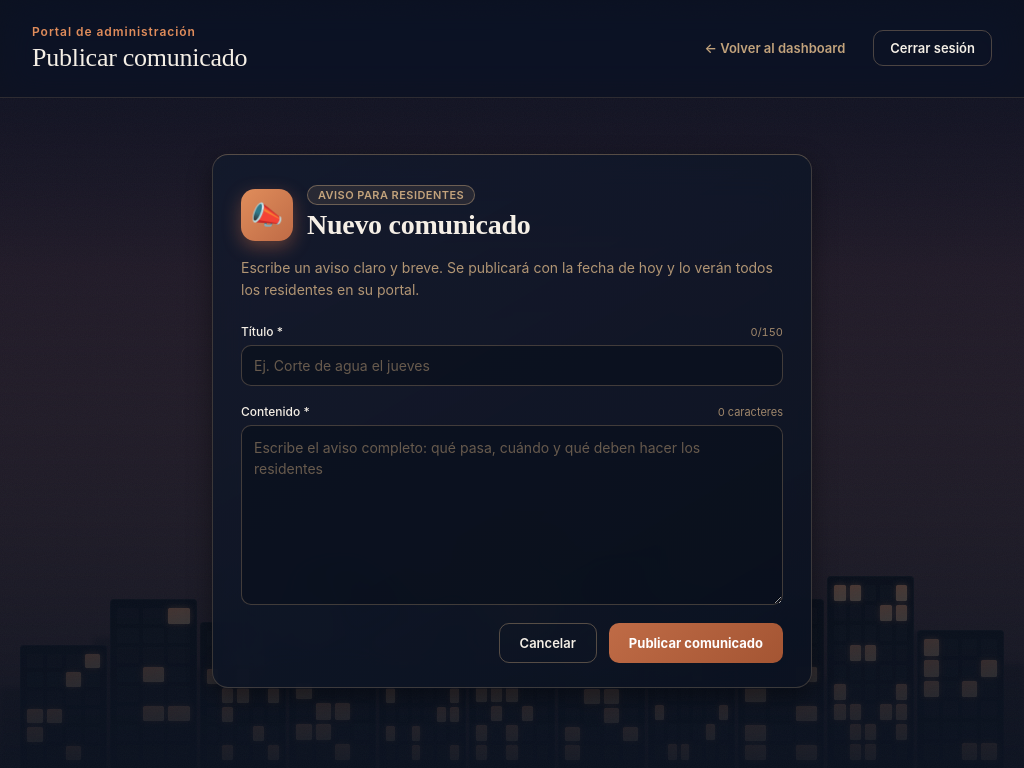
Test: CU-10 PublicarComunicadoPage › error del servidor: muestra su mensaje y conserva lo capturado
Type "Corte de agua" into the field labelled "Título *" at coordinates (512, 366), box [241,345,783,386]
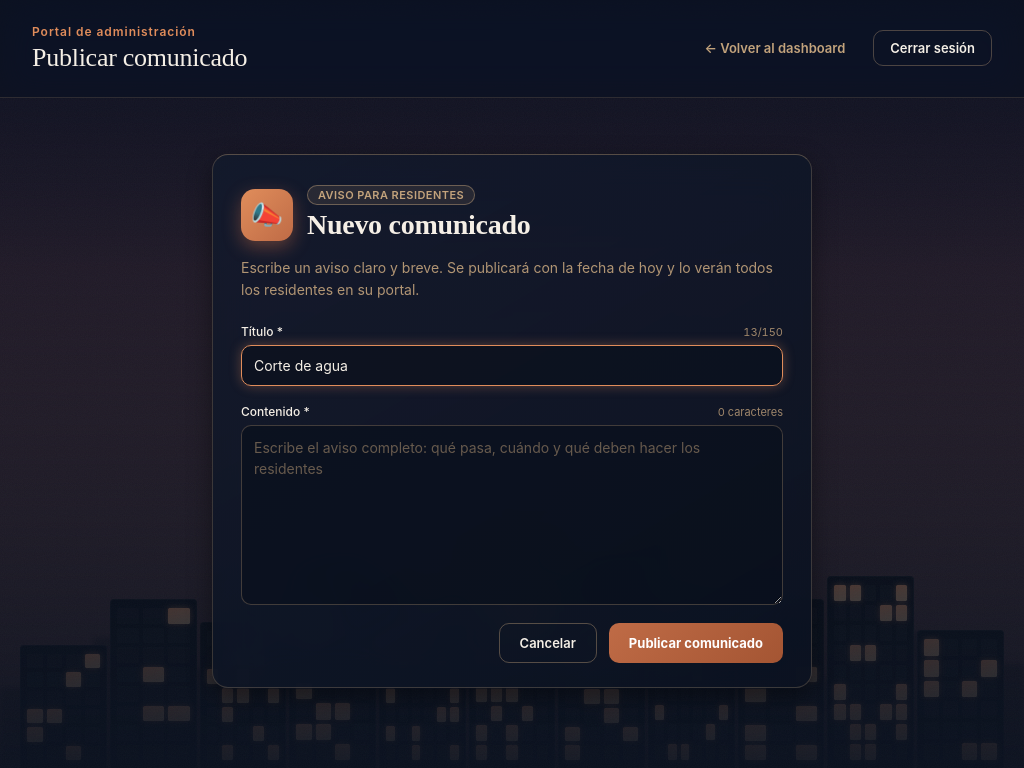
Type "El jueves de 9 a 13 h" into the text box labelled "Contenido *" at coordinates (512, 515), box [241,425,783,605]
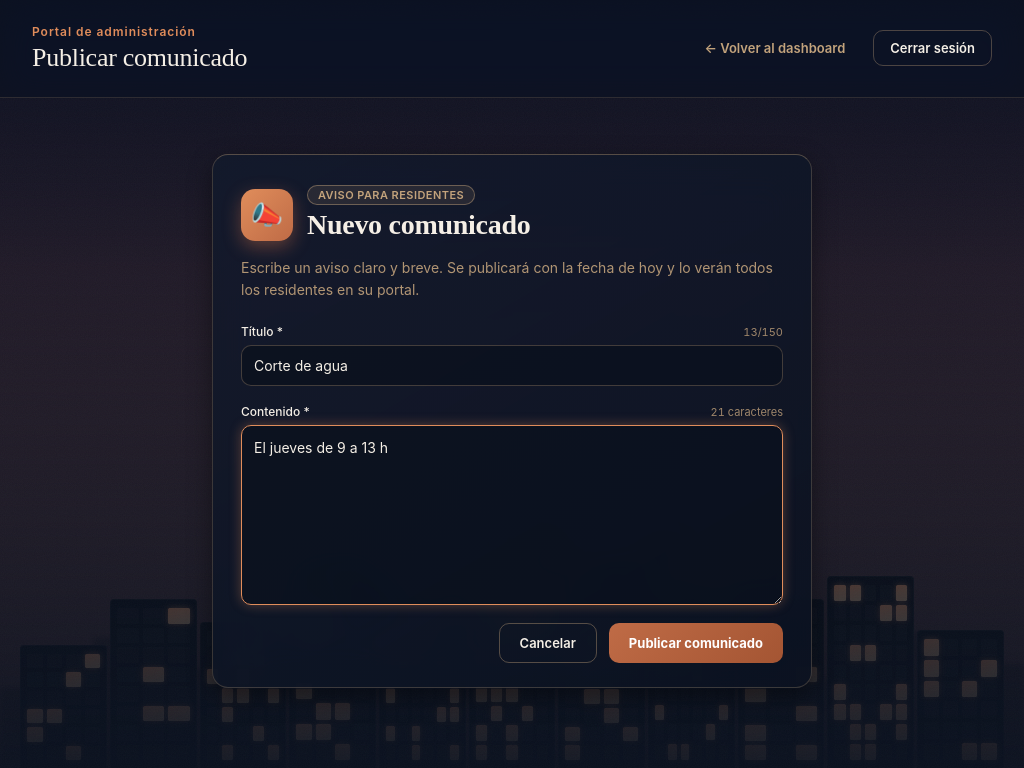
Click the button "Publicar comunicado" at coordinates (696, 643), box [609,623,783,663]
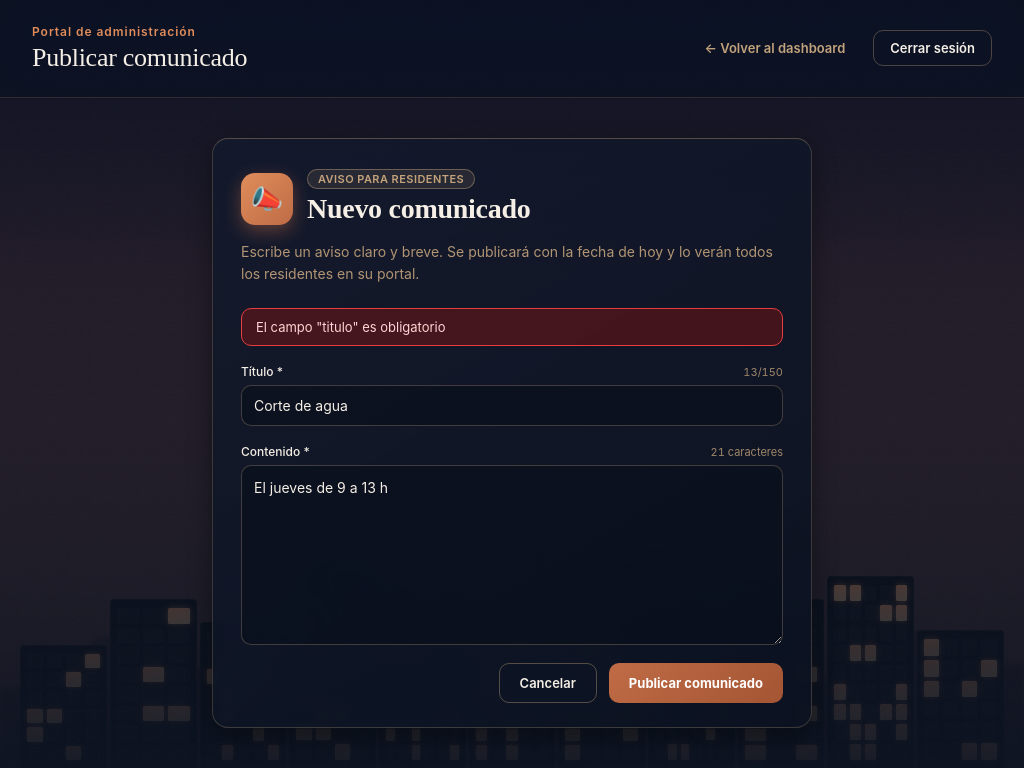
Expected: the message reads "El campo \"titulo\" es obligatorio", [256,320,446,336]
